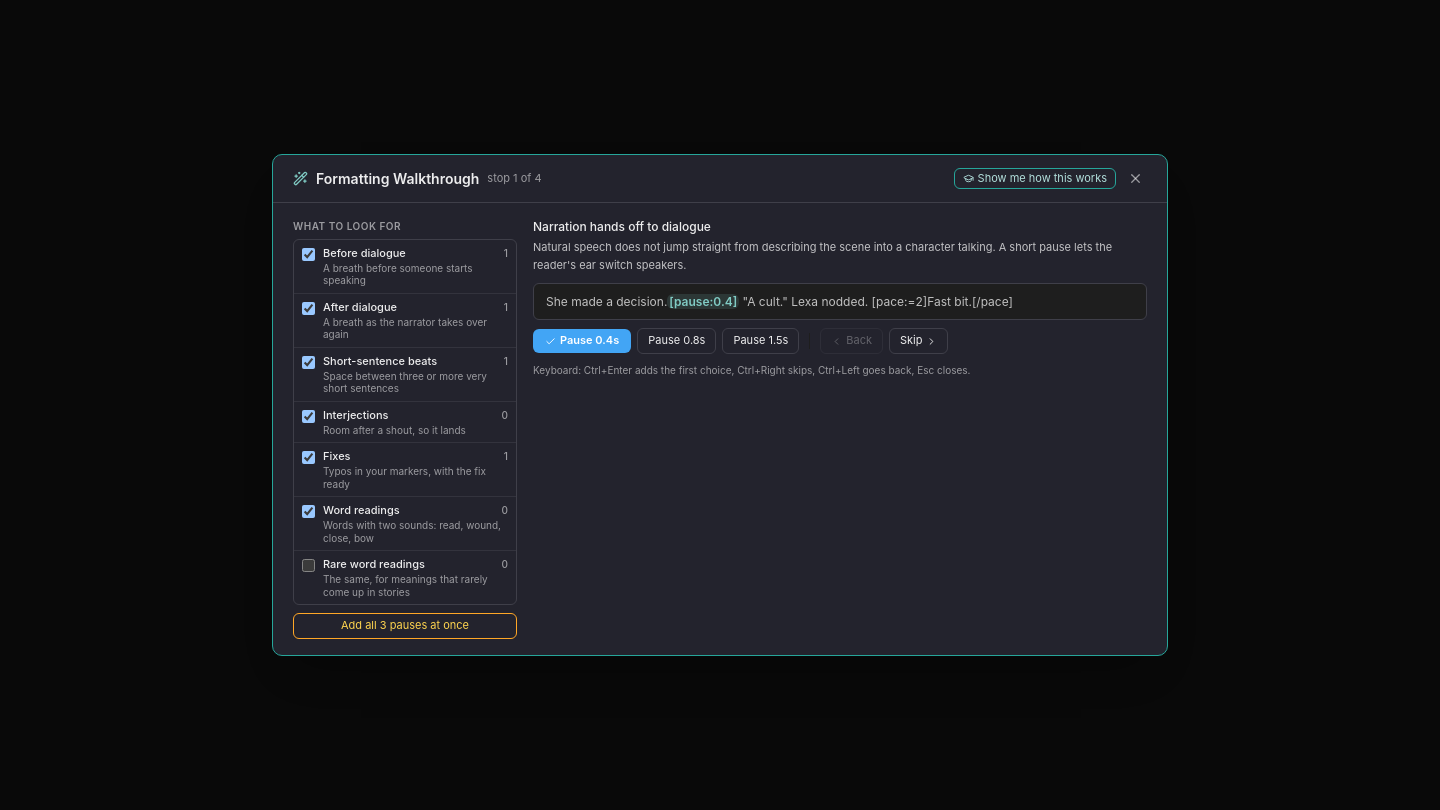
Test: InsertWalkthrough › Skip advances without editing
Click the button "Skip".
click(919, 341)  # box [889,328,948,354]
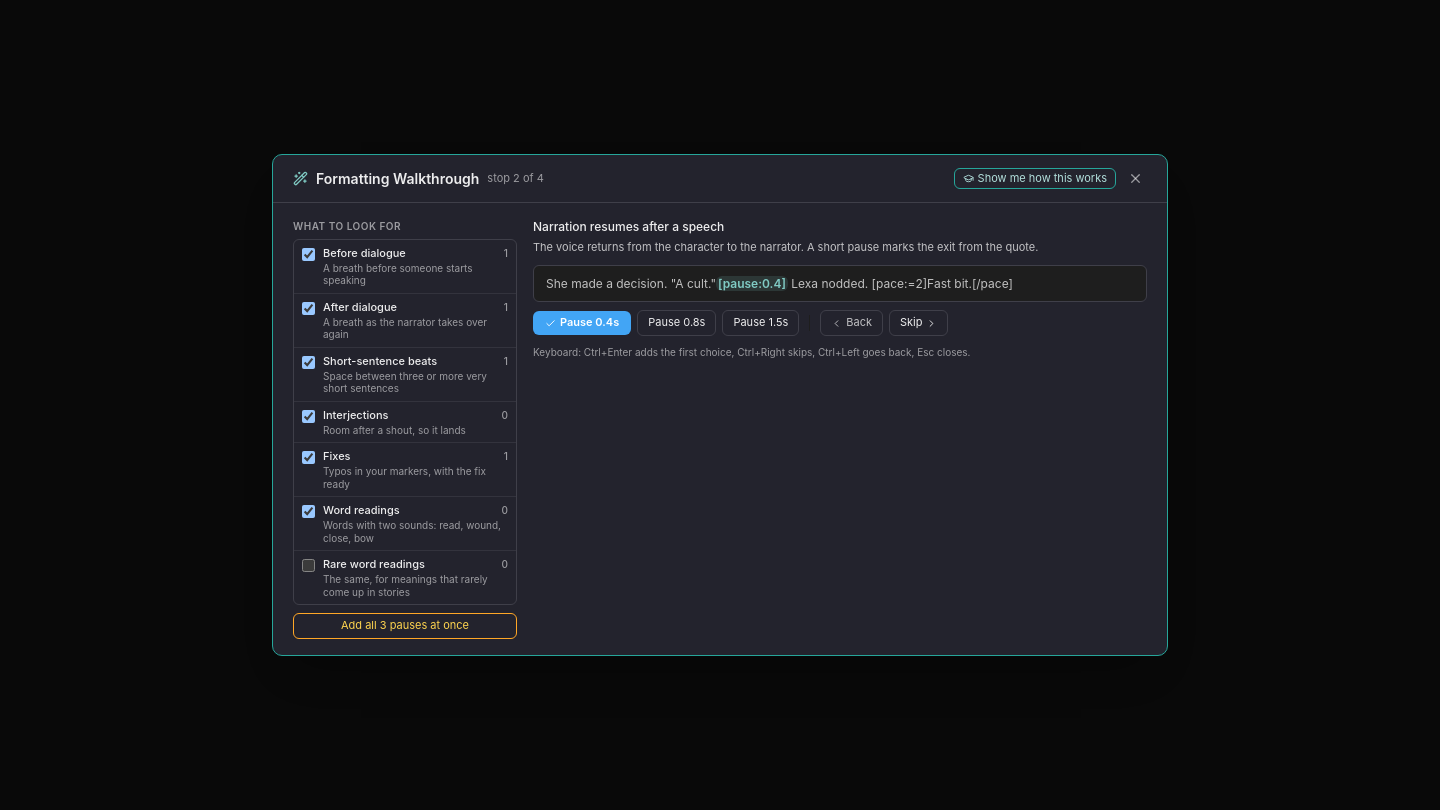
Expected: the text "stop 2 of 4" is shown, [487,170,544,184]
Click the button "Back".
click(852, 323)  # box [820,310,883,336]
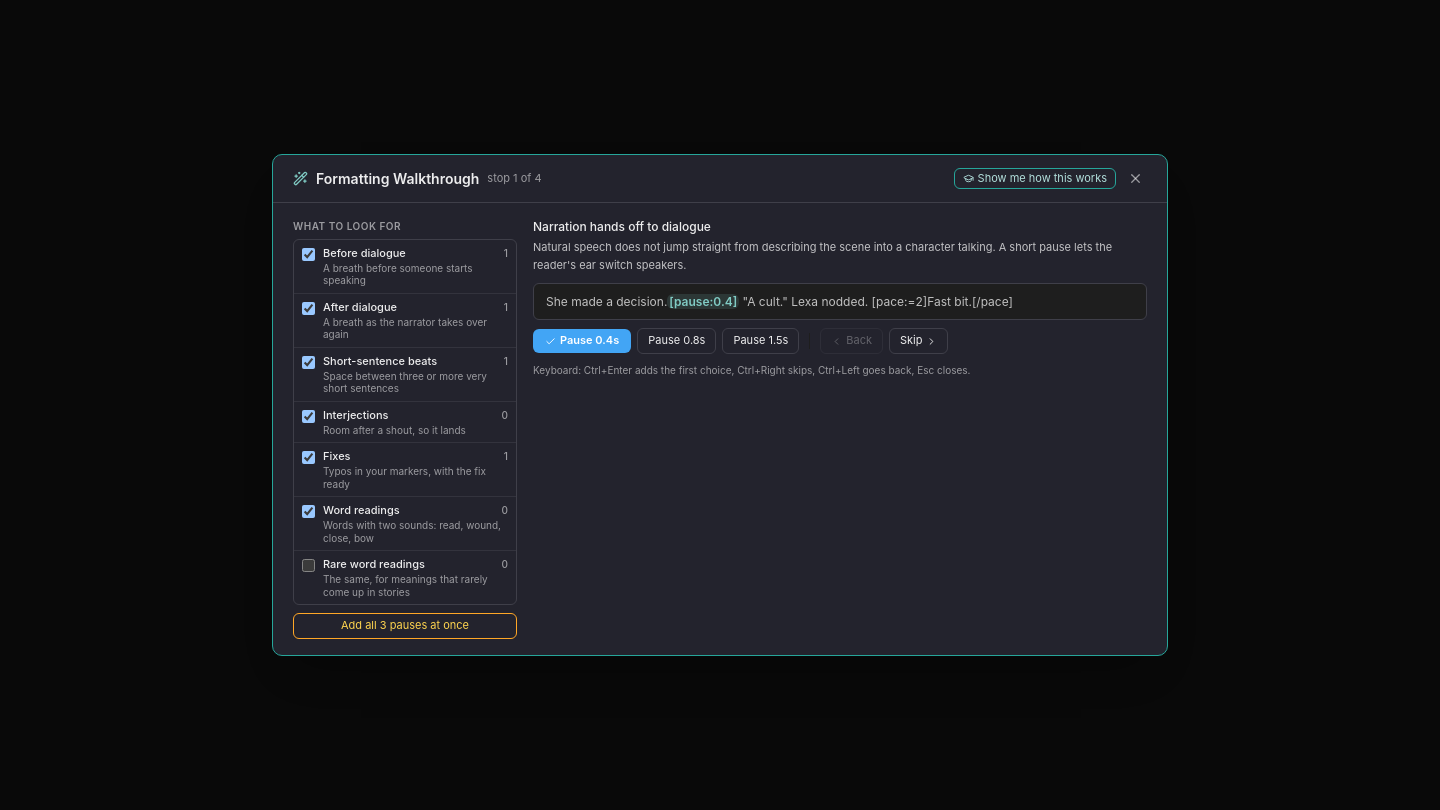
Expected: the text "stop 1 of 4" is shown, [487,170,542,184]
